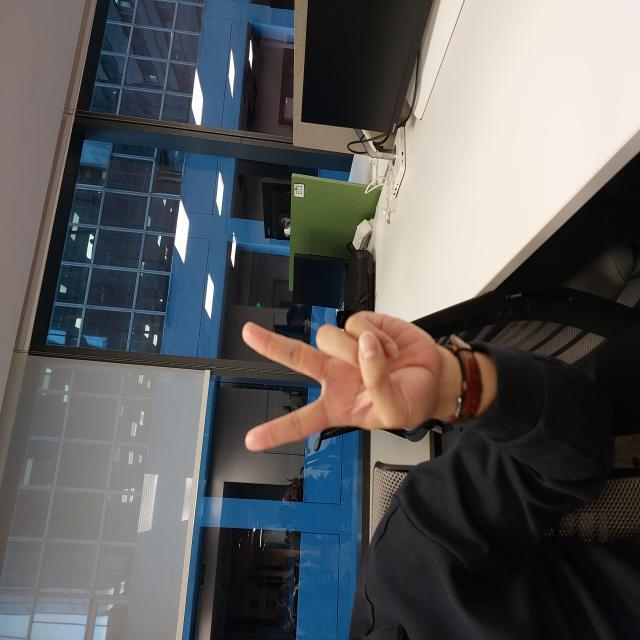V: (187, 241, 329, 440)
